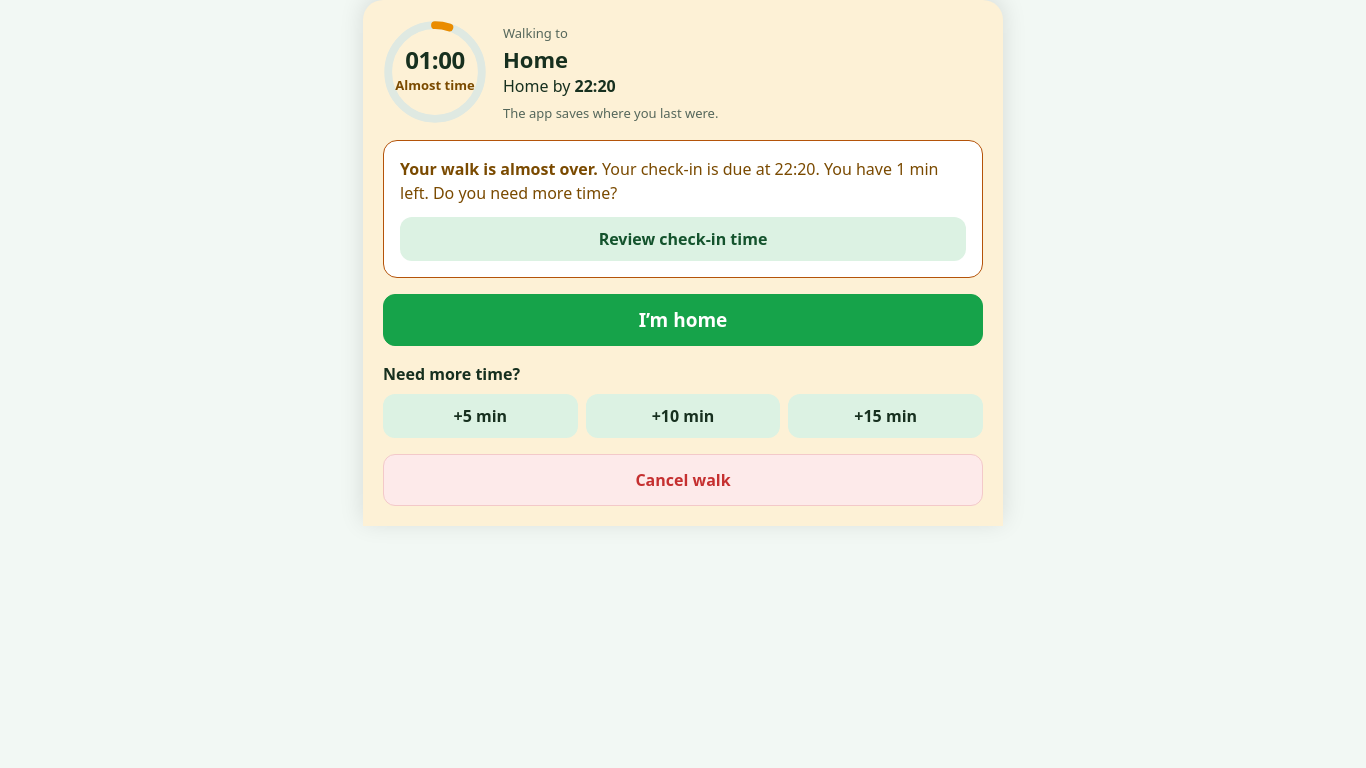
Test: reviewing the reminder does not change the deadline until a choice is confirmed
Click the button "Review check-in time".
click(683, 239)  # box top-left (400, 217), bottom-right (966, 261)
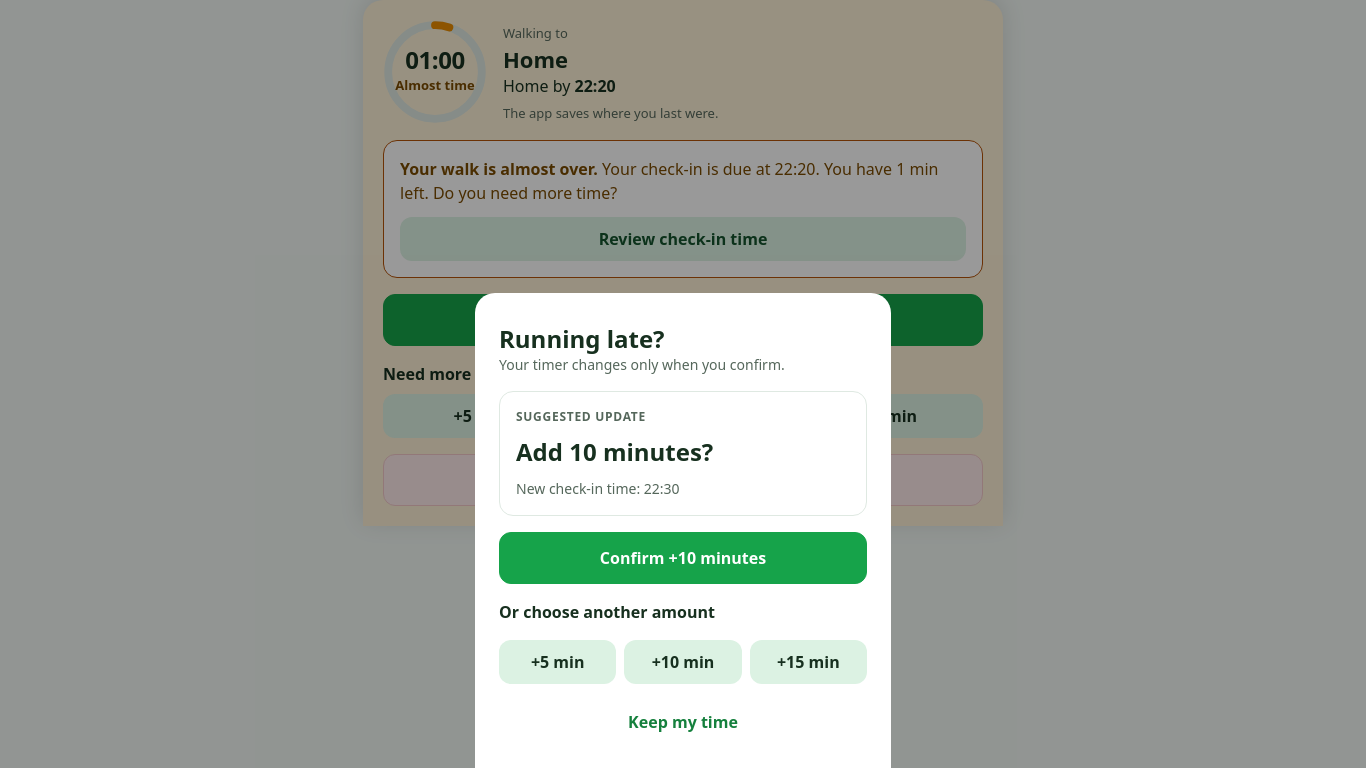
Expected: the dialog "Running late?" is shown, top-left (475, 293), bottom-right (891, 767)
Click the button with aria-label "Add 5 minutes".
click(558, 662)  # box top-left (499, 640), bottom-right (616, 684)
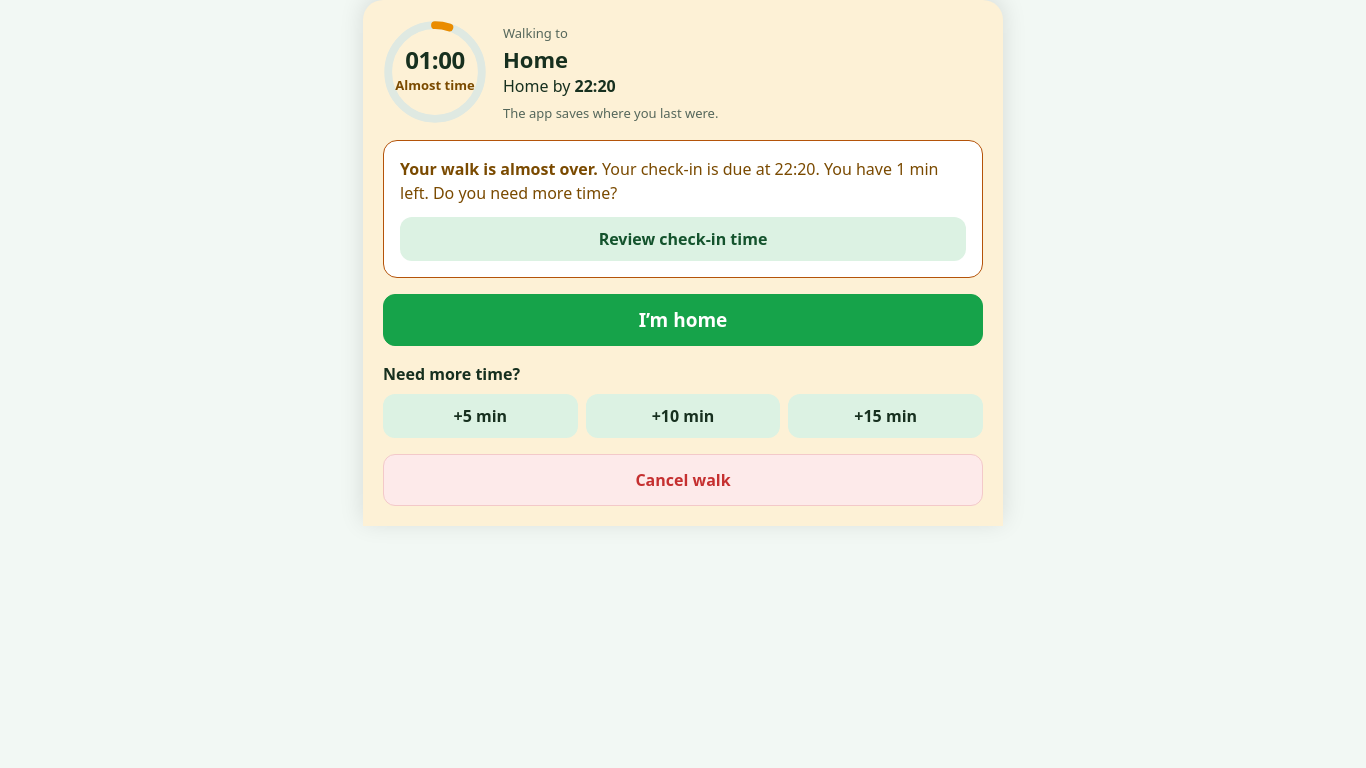
Expected: the dialog is gone
